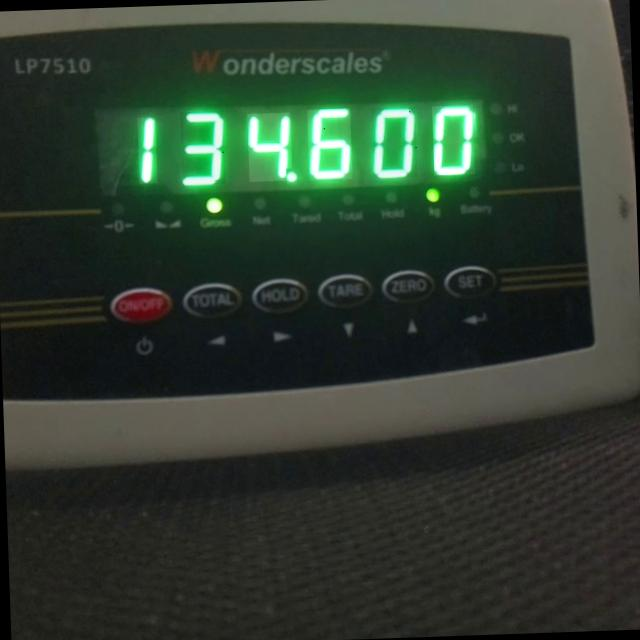.: (286, 168, 301, 183)
0: (371, 107, 417, 178), (432, 104, 477, 174)
1: (137, 116, 157, 184)
3: (180, 110, 226, 185)
4: (247, 112, 292, 182)
6: (307, 108, 352, 182)
